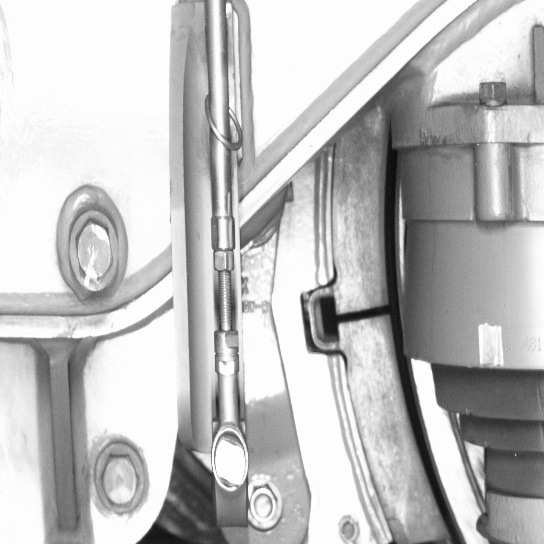KnifeSwitch: (329, 145, 466, 540)
